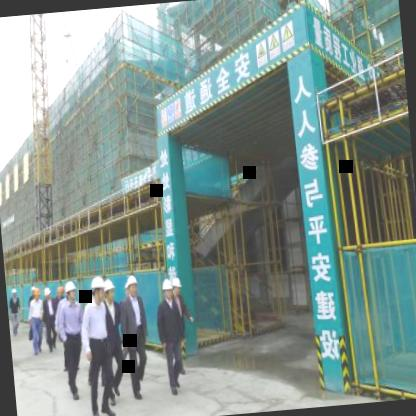helmet: (89, 272, 109, 304), (63, 274, 80, 304), (105, 277, 119, 305), (161, 276, 176, 302), (126, 274, 141, 298), (172, 273, 184, 298), (43, 284, 54, 302), (32, 285, 42, 300), (56, 284, 66, 298)
